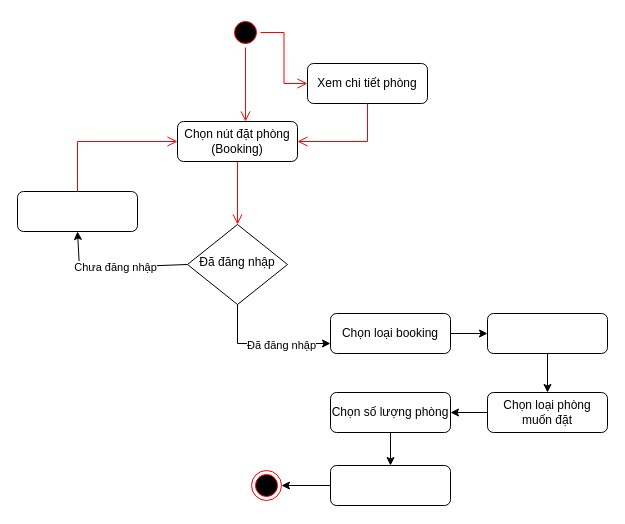
The diagram is 625 pixels wide and 524 high, and some of its shapes have lost their labels. The shapes that lost their labels are listed below. From the top down, each one's centre as x and y in pixels, then its label:
[77,211]: Đăng nhập
[547,333]: Chọn thời gian đặt phòng
[390,485]: Điền thông tin liên hệ và phương thức thanh toán
